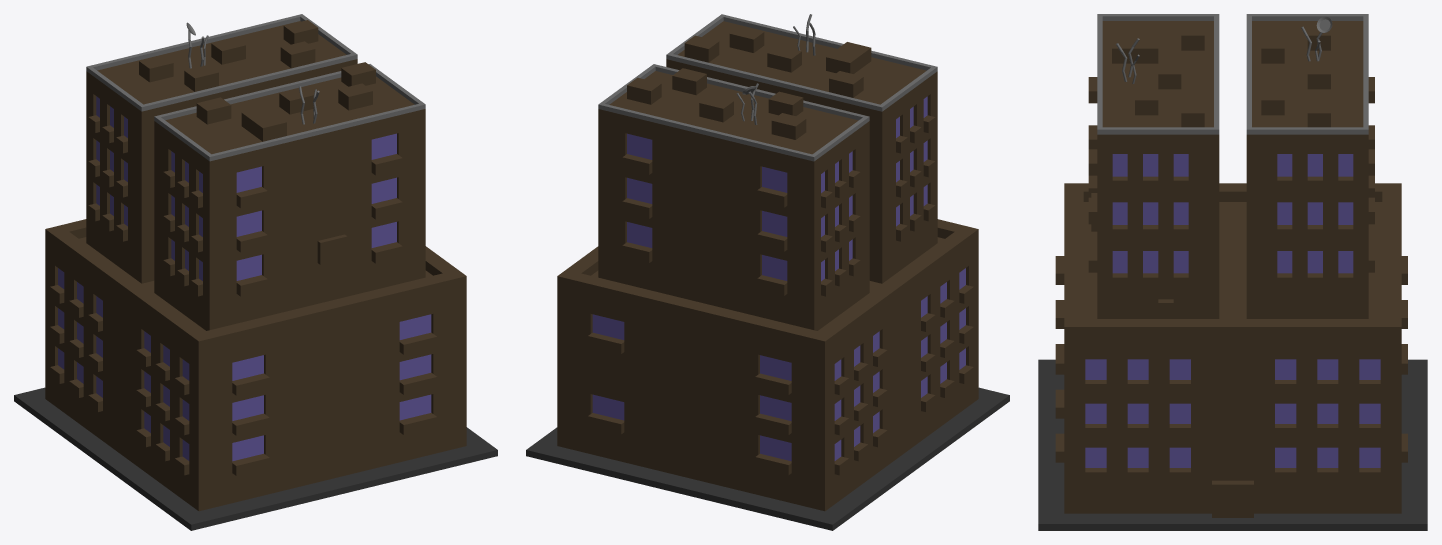
3 views of the same model, side by side, from view 1: azimuth 30°, elevation 25°; view 2: azimuth 150°, elevation 25°; view 3: azimuth 270°, elevation 25° (orthographic). The views are drawn at different scales.
Parts seen in each view (by area): view 1: Cube.005, Floor.002; view 2: Cube.005, Floor.002; view 3: Cube.005, Floor.002.
Part boxes in pixels (left/top/right/bottom): Cube.005: left=45, top=14, right=466, bottom=511; Floor.002: left=14, top=387, right=497, bottom=530; Cube.005: left=557, top=14, right=978, bottom=511; Floor.002: left=526, top=387, right=1009, bottom=530; Cube.005: left=1055, top=14, right=1407, bottom=517; Floor.002: left=1038, top=359, right=1427, bottom=530.
Bounding box in the file's own units: 800 × 948 × 800.
